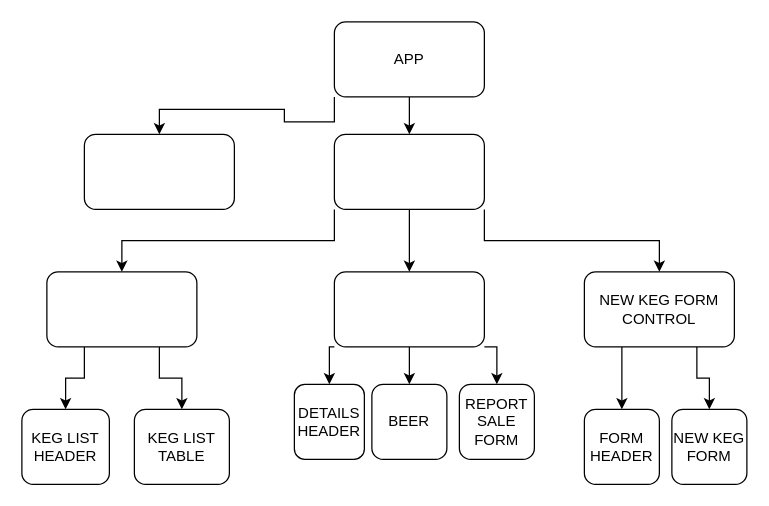
Image size: 769x506. Some labels were removed from this diagram. The shapes that lost their labels are listed below. From the top down, each one's centre as x and y in pixels, then its label:
the point at 158,171: MAIN HEADER
the point at 408,171: KEG CONTROL
the point at 121,309: KEG LIST CONTROL
the point at 408,309: KEG DETAILS
